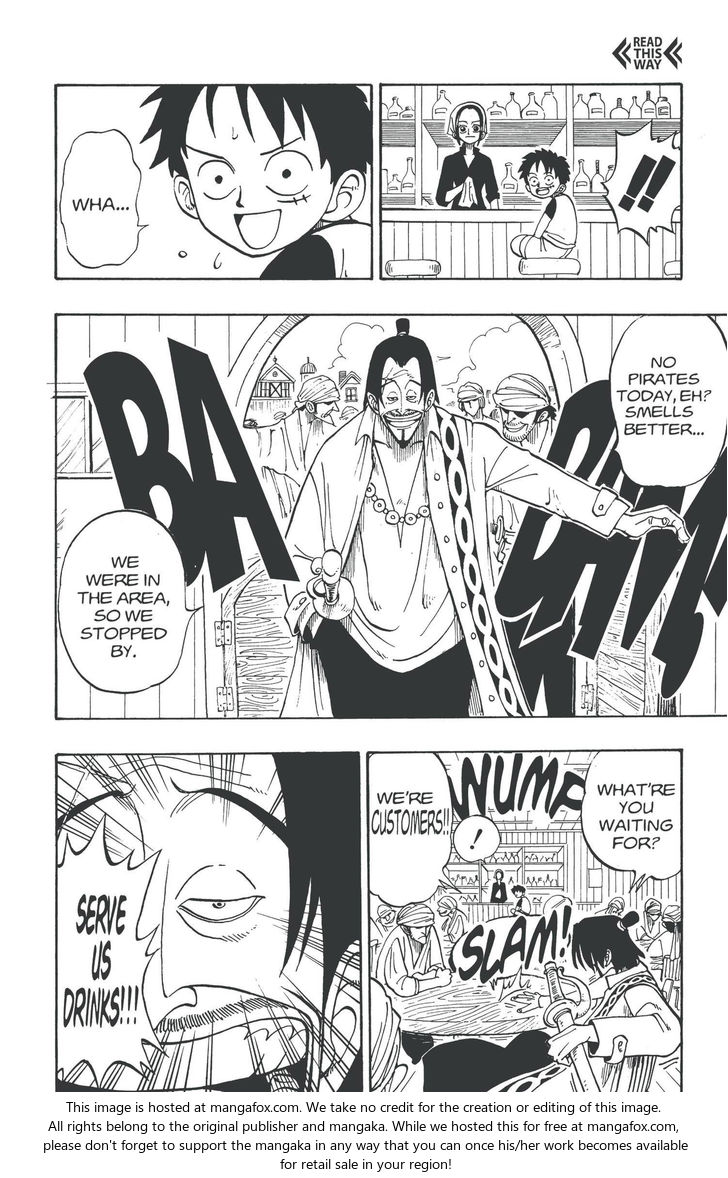bubble: (55, 814, 167, 1088), (58, 509, 202, 694), (610, 314, 728, 487), (580, 749, 683, 893), (369, 751, 461, 908), (60, 130, 149, 268), (602, 120, 682, 245), (452, 814, 501, 863)
